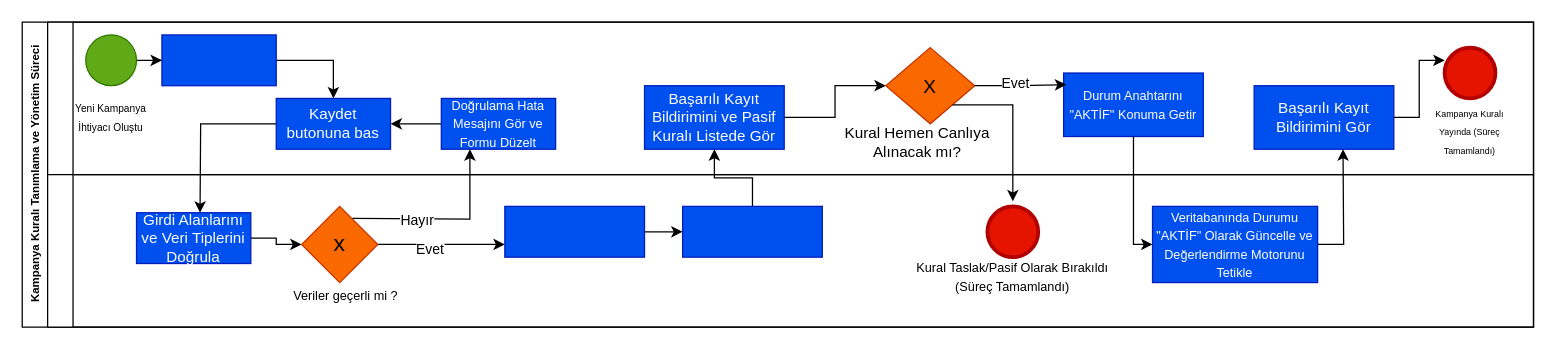
Image size: 1556x349. Some labels were removed from this diagram. Here are the shapes that lost their labels. From the top down, the box of each, then its label:
(161, 34, 276, 86): Kampanya adı, koşul ve aksiyon tipini gir
(46, 21, 1534, 175): Pazarlama Yöneticisi
(504, 205, 645, 257): Kuralı "PASİF" Durumda Veritabanına Kaydet
(681, 205, 822, 257): Benzersiz Öncelik Sırasını Hesapla ve Diğer Kuralları Kaydır
(46, 173, 1534, 327): Kampanya Yönetim Servisi
